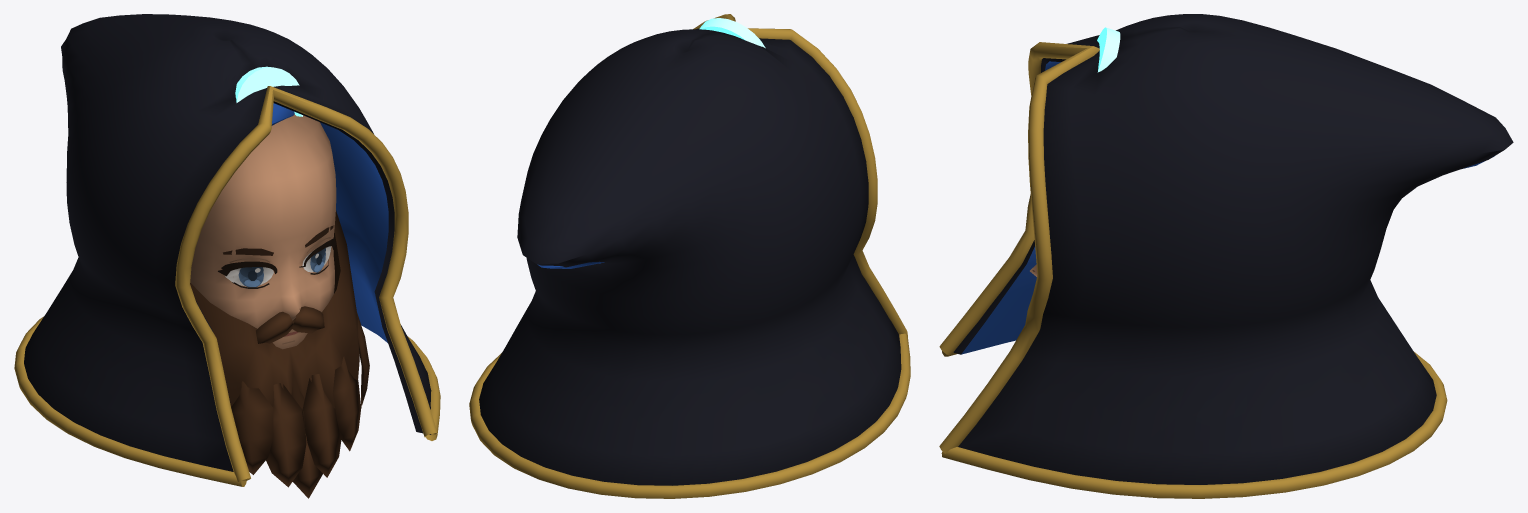
File: h_void_d.glb
The picture shows the model from 3 angles, left to right: view 1: azimuth 30°, elevation 25°; view 2: azimuth 150°, elevation 25°; view 3: azimuth 270°, elevation 25°; orthographic projection. The views are drawn at different scales.
Parts seen in each view (by area): view 1: Hood, HeadMesh, BeardLocks, Beard, Mustache, LashR; view 2: Hood; view 3: Hood.
Boxes of the visible parts, x1,y1,x2,y2 form: Hood: [14, 14, 440, 486]; HeadMesh: [190, 114, 336, 349]; BeardLocks: [231, 310, 369, 498]; Beard: [190, 210, 359, 408]; Mustache: [256, 306, 324, 343]; LashR: [218, 261, 277, 288]; Hood: [469, 14, 910, 498]; Hood: [939, 14, 1513, 498].
Size of the model in its own units: 0.3784 by 0.4128 by 0.4865.
